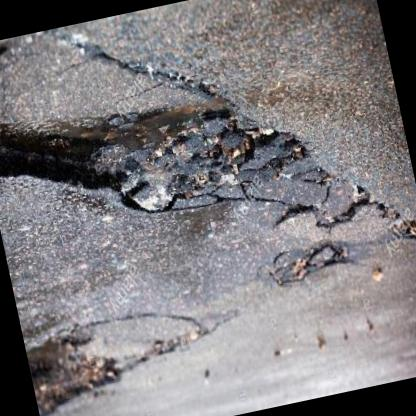pothole: (0, 0, 416, 331), (24, 319, 132, 416), (265, 235, 357, 292)
